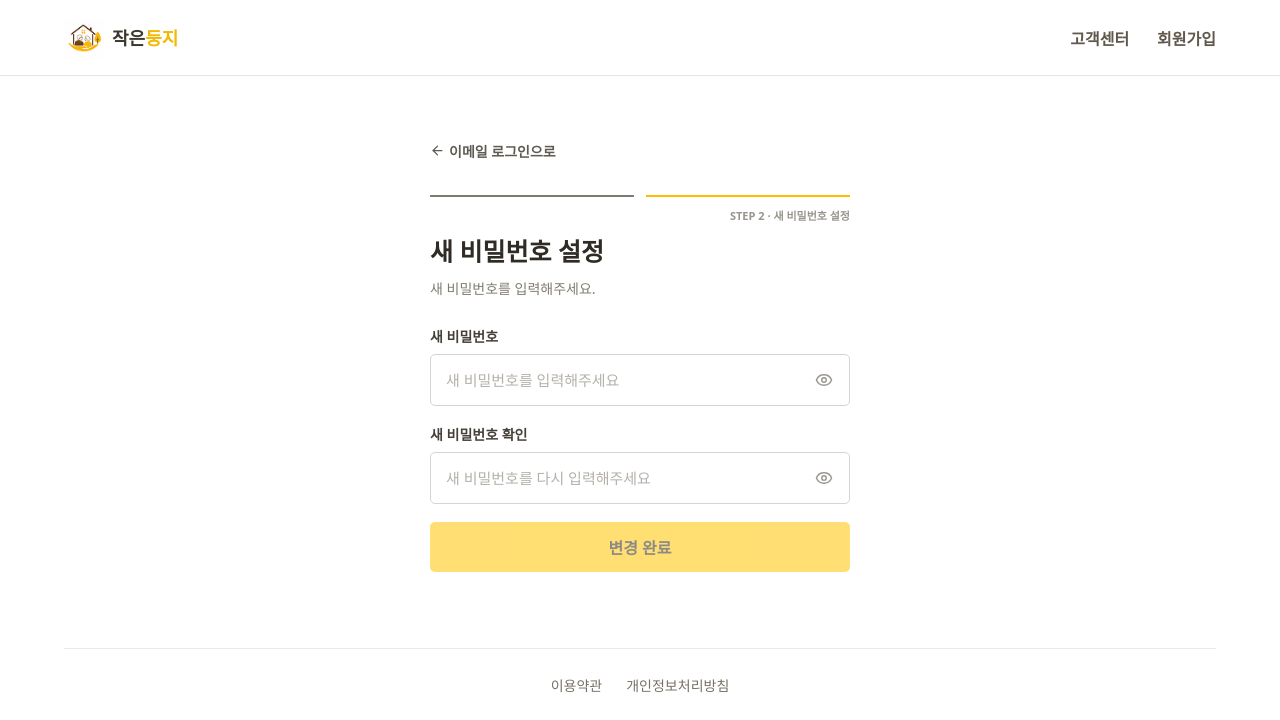
PasswordResetCompleteView › shows the password reuse error returned by the server
In the password field named "password": (640, 380) [430,354,850,406], type "OldSenior!23"
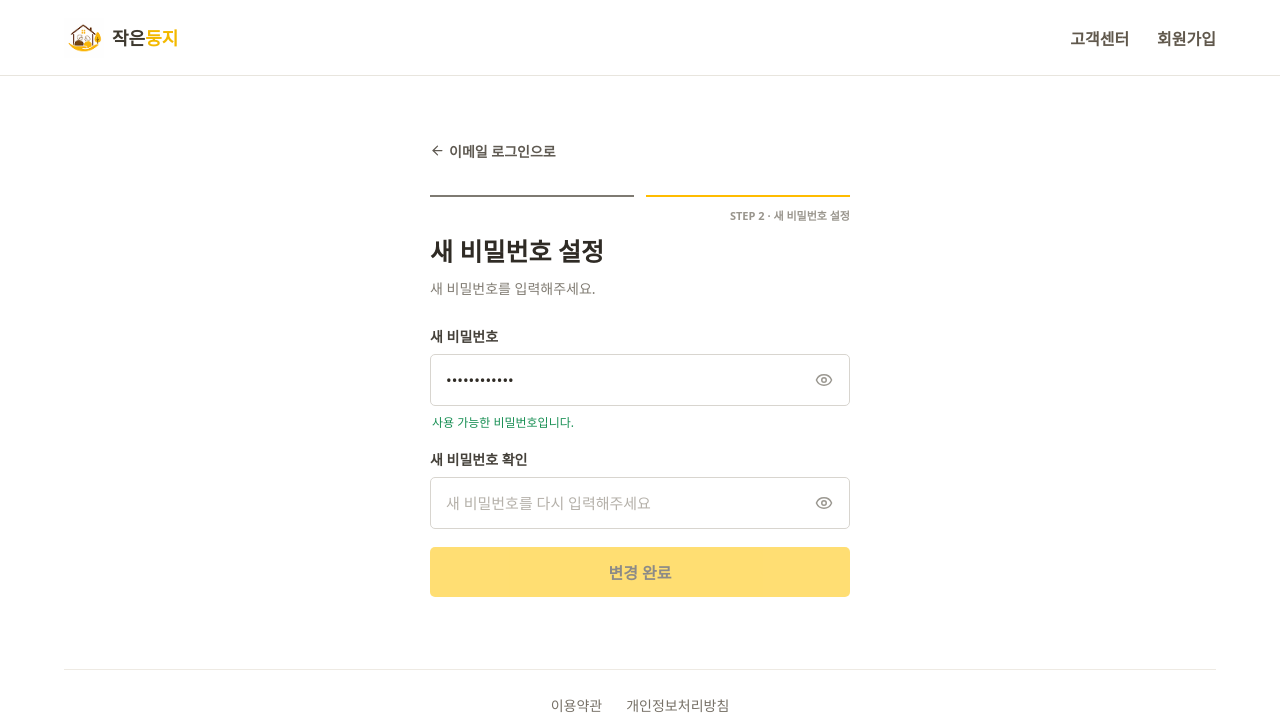
In the password field named "passwordConfirm": (640, 503) [430,477,850,529], type "OldSenior!23"
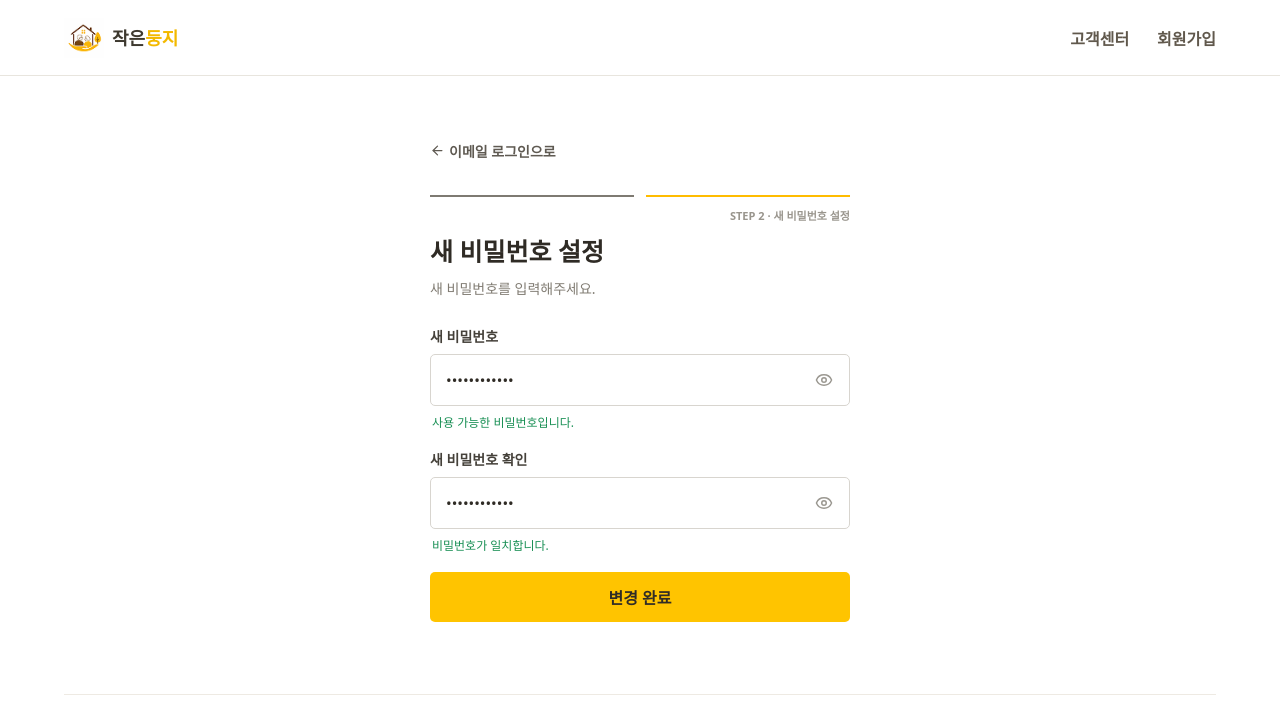
Submit the form, box [430,326,850,622]
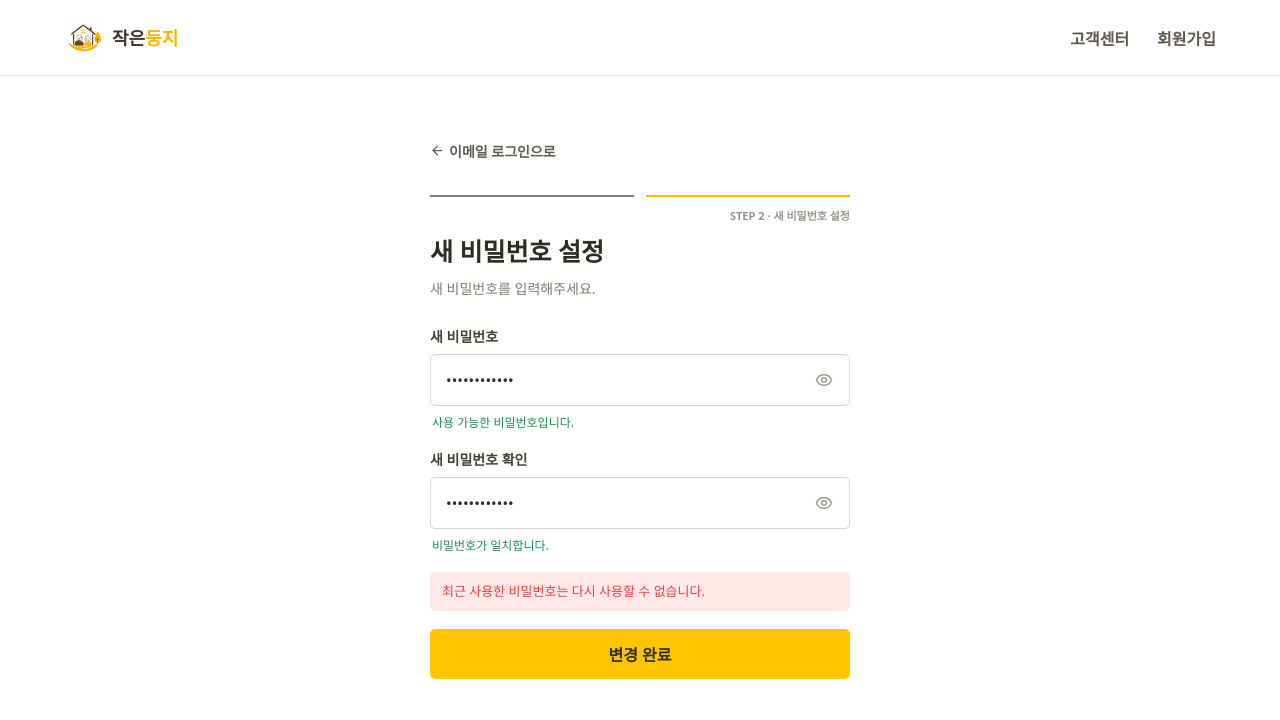
Expected: the text "최근 사용한 비밀번호는 다시 사용할 수 없습니다." is shown, [430,572,850,611]
In the password field named "password": (640, 380) [430,354,850,406], type "AnotherSenior!23"
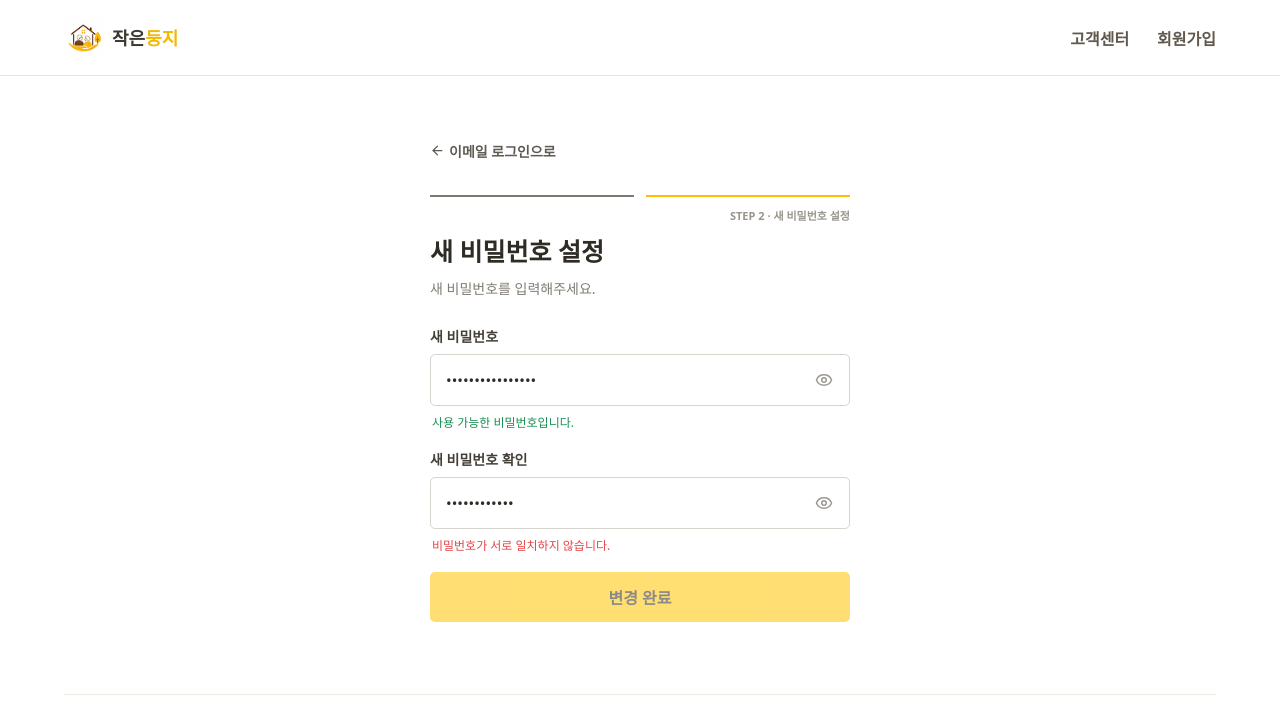
Expected: the text "최근 사용한 비밀번호는 다시 사용할 수 없습니다." is gone
